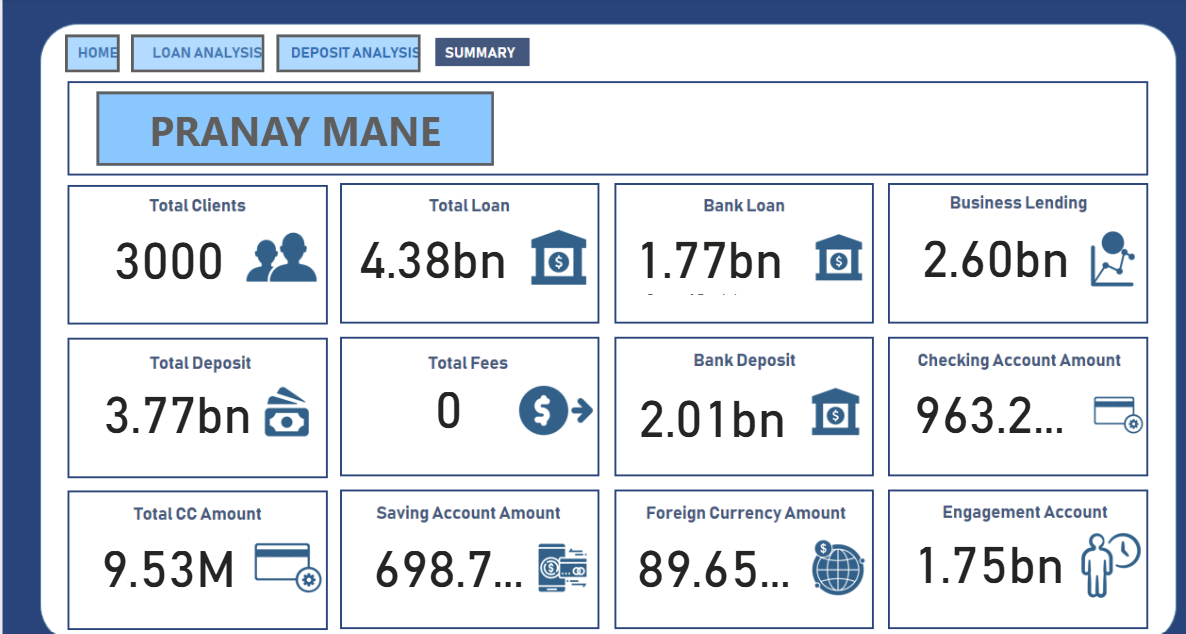

The dashboard page shown, as its layout file describes it:
{"tool":"powerbi","page":{"name":"Summary","canvas":[1280,720],"ordinal":3},"visuals":[{"type":"card","fields":{"Values":["Banking.total clients"]},"box":[100,248.9,153,71.4],"z":0},{"type":"card","fields":{"Values":["Banking.total loan"]},"box":[365.2,244.8,181.6,75.5],"z":1},{"type":"card","fields":{"Values":["Sum(Banking.Bank Loans)"]},"box":[659,242.8,181.6,77.5],"z":2},{"type":"card","fields":{"Values":["Sum(Banking.Business Lending)"]},"box":[963.1,253,181.6,57.1],"z":3},{"type":"card","fields":{"Values":["Banking.total deposit"]},"box":[100,414.2,171.4,65.3],"z":4},{"type":"card","fields":{"Values":["Banking.Tfees"]},"box":[422.4,414.2,100,55.1],"z":5},{"type":"card","fields":{"Values":["Sum(Banking.Bank Deposits)"]},"box":[661.1,414.2,181.6,75.5],"z":6},{"type":"card","fields":{"Values":["Sum(Banking.Checking Accounts)"]},"box":[948.8,414.2,195.9,65.3],"z":7},{"type":"card","fields":{"Values":["Sum(Banking.Credit Card Balance)"]},"box":[89.8,581.5,173.4,55.1],"z":8},{"type":"card","fields":{"Values":["Sum(Banking.Saving Accounts)"]},"box":[381.6,581.5,181.6,55.1],"z":9},{"type":"card","fields":{"Values":["Sum(Banking.Foreign Currency Account)"]},"box":[663.1,575.4,181.6,67.3],"z":10},{"type":"card","fields":{"Values":["Banking.engagement account"]},"box":[948.8,569.3,195.9,73.5],"z":11},{"type":"actionButton","box":[99.8,99.8,421.7,78.9],"z":14},{"type":"actionButton","box":[67.6,40.2,57.9,40.2],"z":15},{"type":"actionButton","box":[136.8,40.2,141.6,40.2],"z":16},{"type":"actionButton","box":[291.3,40.2,152.9,40.2],"z":17}]}

Visuals, with their boxes on the page's 1280x720 design canvas (x1, y1, x2, y2). These are canvas units, not pixel positions in the 1186x634 screenshot, which may show the page scaled, cropped or inside an application window:
card - Banking.total clients: box=[100, 249, 253, 320]
card - Banking.total loan: box=[365, 245, 547, 320]
card - Sum(Banking.Bank Loans): box=[659, 243, 841, 320]
card - Sum(Banking.Business Lending): box=[963, 253, 1145, 310]
card - Banking.total deposit: box=[100, 414, 271, 480]
card - Banking.Tfees: box=[422, 414, 522, 469]
card - Sum(Banking.Bank Deposits): box=[661, 414, 843, 490]
card - Sum(Banking.Checking Accounts): box=[949, 414, 1145, 480]
card - Sum(Banking.Credit Card Balance): box=[90, 582, 263, 637]
card - Sum(Banking.Saving Accounts): box=[382, 582, 563, 637]
card - Sum(Banking.Foreign Currency Account): box=[663, 575, 845, 643]
card - Banking.engagement account: box=[949, 569, 1145, 643]
actionButton: box=[100, 100, 522, 179]
actionButton: box=[68, 40, 126, 80]
actionButton: box=[137, 40, 278, 80]
actionButton: box=[291, 40, 444, 80]
